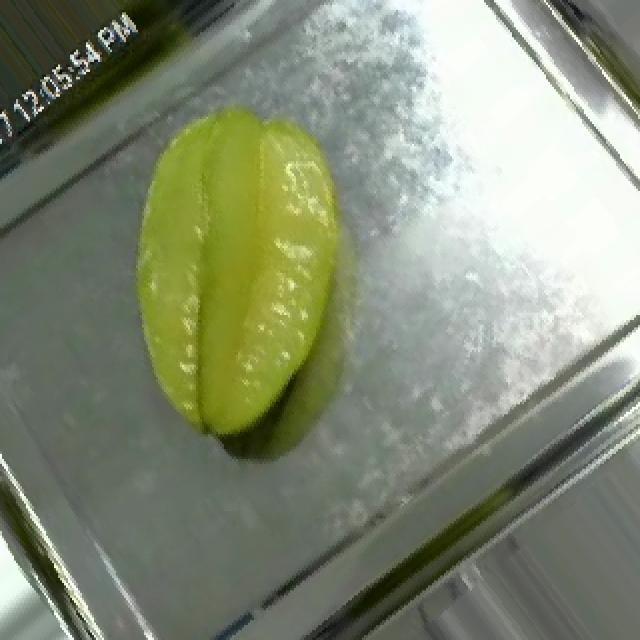fruit: (62, 57, 444, 481)
